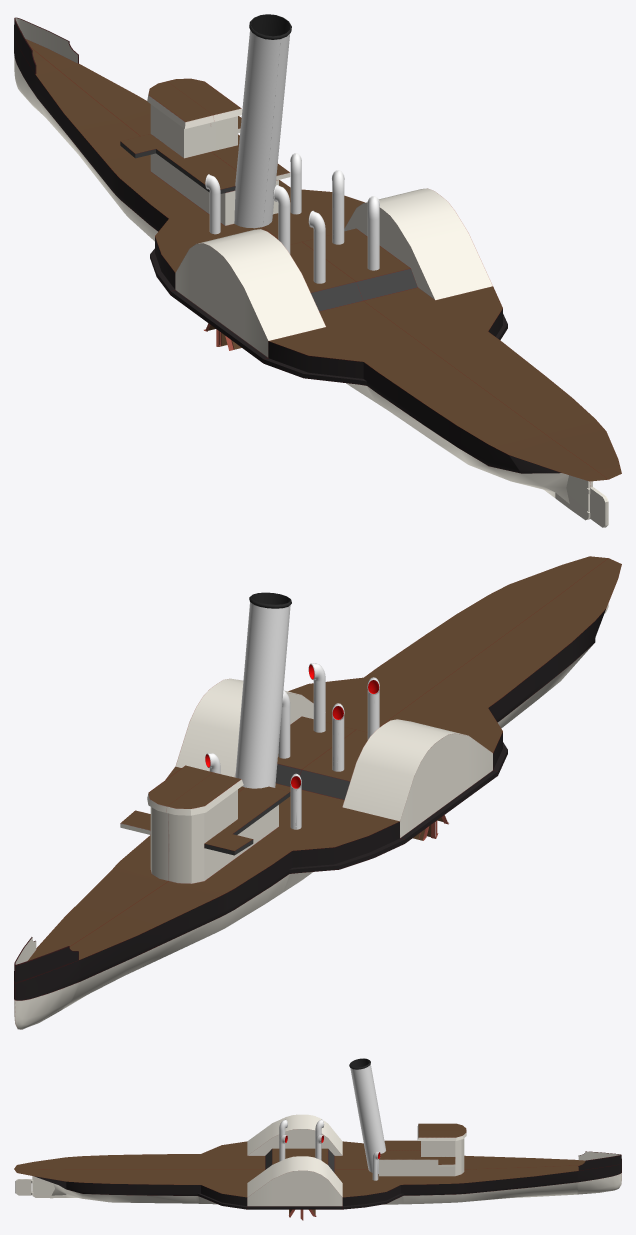
Rendered from paddlewheeler.gltf.
3 renders of one model, top to bottom at view 1: azimuth 30°, elevation 25°; view 2: azimuth 150°, elevation 25°; view 3: azimuth 270°, elevation 25°, orthographic. The views are drawn at different scales.
Visible parts, largest first — view 1: Hull, Smoke Stack, Ventilator 1.003, Ventilator 1.002, Ventilator 1.001, Ventilator 1, Ventilator 1.005, Ventilator 1.004; view 2: Hull, Smoke Stack, Ventilator 1.002, Ventilator 1, Ventilator 1.003, Ventilator 1.001, Ventilator 1.004; view 3: Hull, Smoke Stack, Rudder.
Part boxes in pixels (bbox=[...]): Hull: bbox=[14, 17, 621, 520]; Smoke Stack: bbox=[234, 14, 291, 228]; Ventilator 1.003: bbox=[308, 210, 325, 283]; Ventilator 1.002: bbox=[367, 196, 379, 270]; Ventilator 1.001: bbox=[332, 170, 344, 244]; Ventilator 1: bbox=[273, 185, 290, 254]; Ventilator 1.005: bbox=[290, 153, 301, 214]; Ventilator 1.004: bbox=[205, 174, 220, 234]; Hull: bbox=[14, 556, 621, 1029]; Smoke Stack: bbox=[235, 592, 291, 788]; Ventilator 1.002: bbox=[308, 663, 325, 732]; Ventilator 1: bbox=[332, 703, 344, 771]; Ventilator 1.003: bbox=[367, 677, 379, 739]; Ventilator 1.001: bbox=[278, 690, 290, 758]; Ventilator 1.004: bbox=[290, 773, 301, 829]; Hull: bbox=[14, 1114, 621, 1209]; Smoke Stack: bbox=[349, 1058, 385, 1173]; Rudder: bbox=[15, 1179, 33, 1195].
Bounding box in the file's own units: 5.22 × 5.65 × 22.89.
10 materials, 10 textured.
